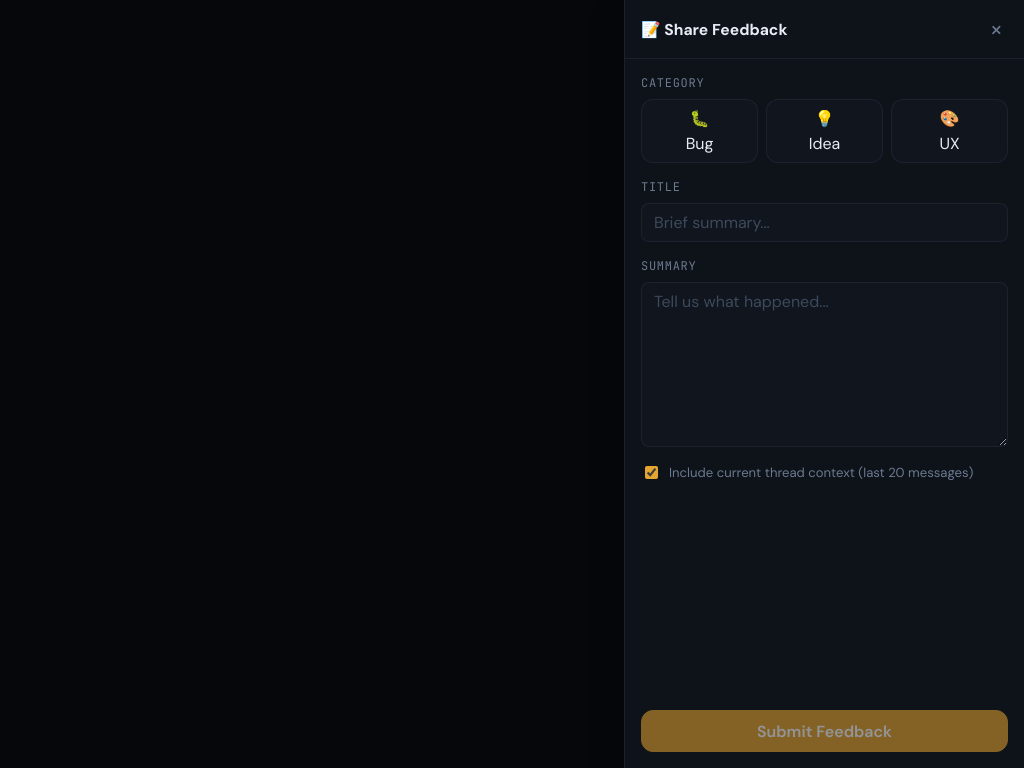
FeedbackSlideOver › shows error state when submission fails
Click the button "🐛 Bug" at point(700, 131), box top-left (641, 99), bottom-right (758, 163)
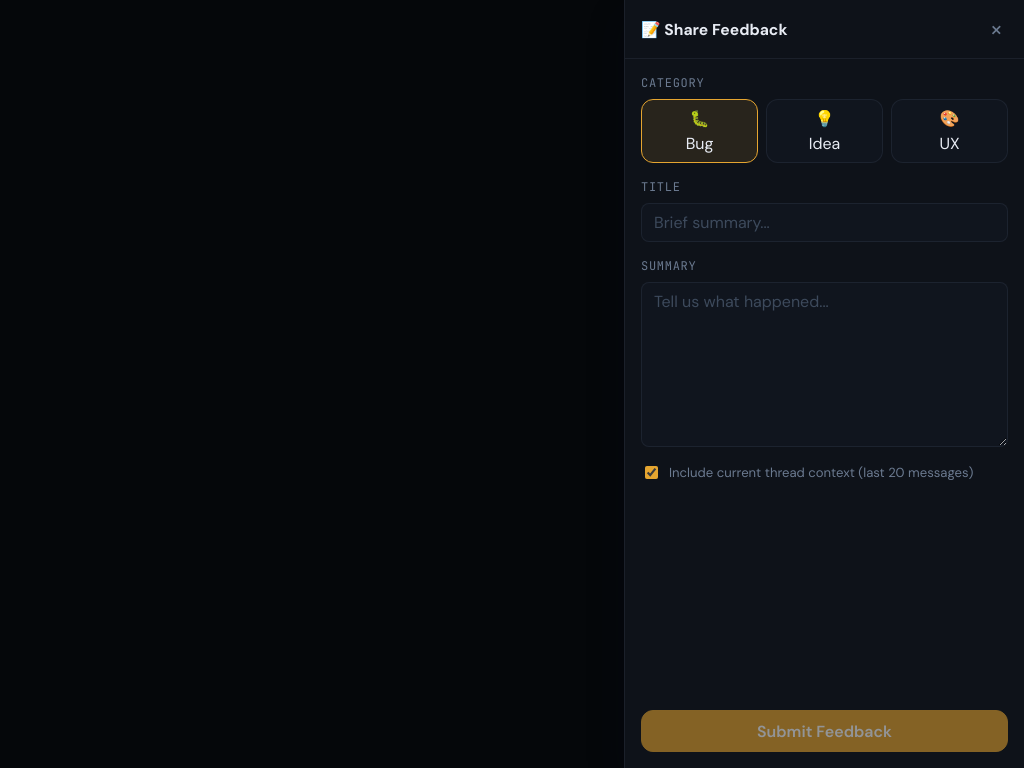
Type "Risk matrix shows duplicates" into the field with placeholder "Brief summary..." at point(824, 222), box top-left (641, 203), bottom-right (1008, 242)
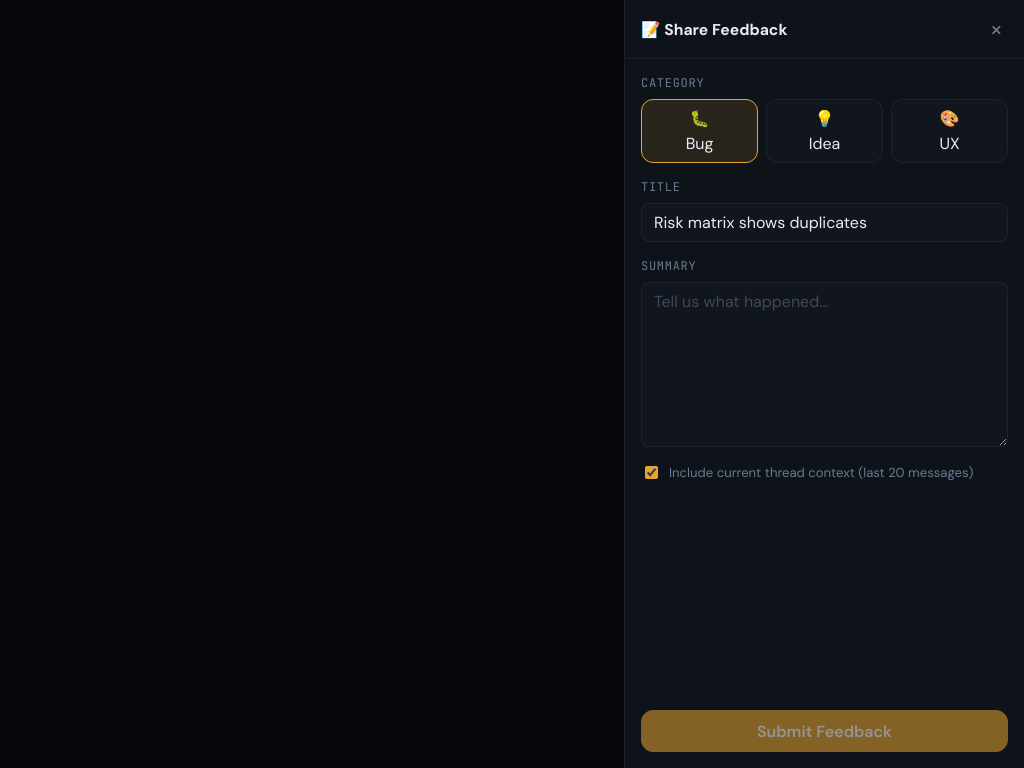
Type "Loading a second scenario duplicates rows in the output table." into the text box with placeholder "Tell us what happened..." at point(824, 364), box top-left (641, 282), bottom-right (1008, 447)
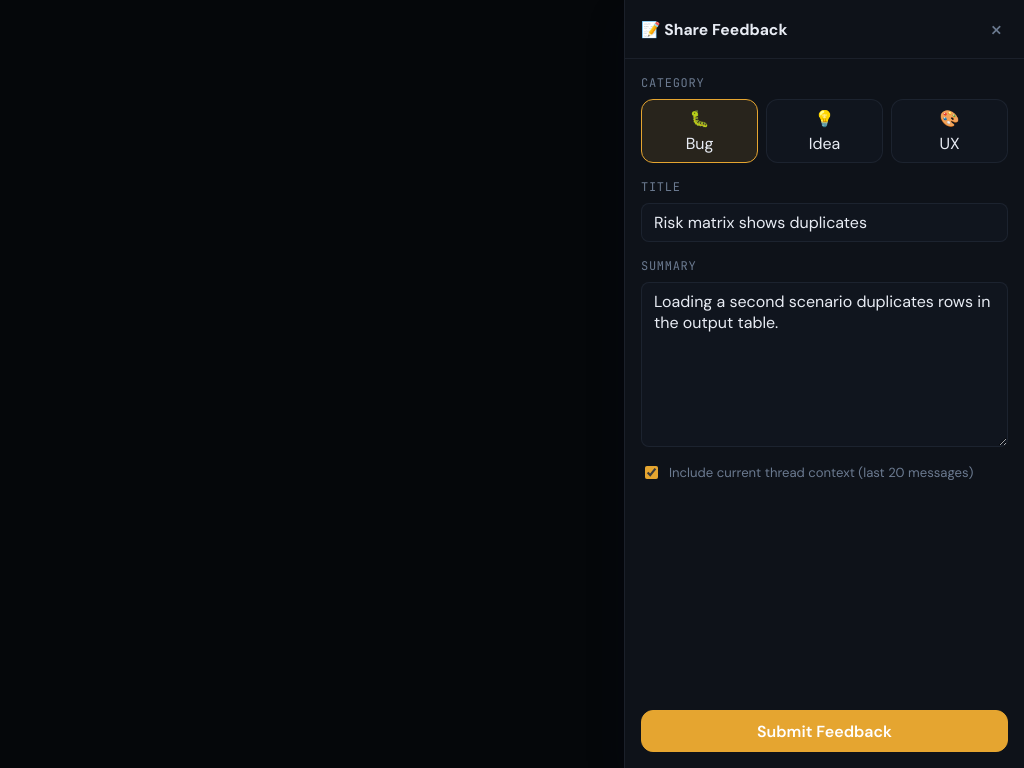
Click the button "Submit Feedback" at point(824, 731), box top-left (641, 710), bottom-right (1008, 752)
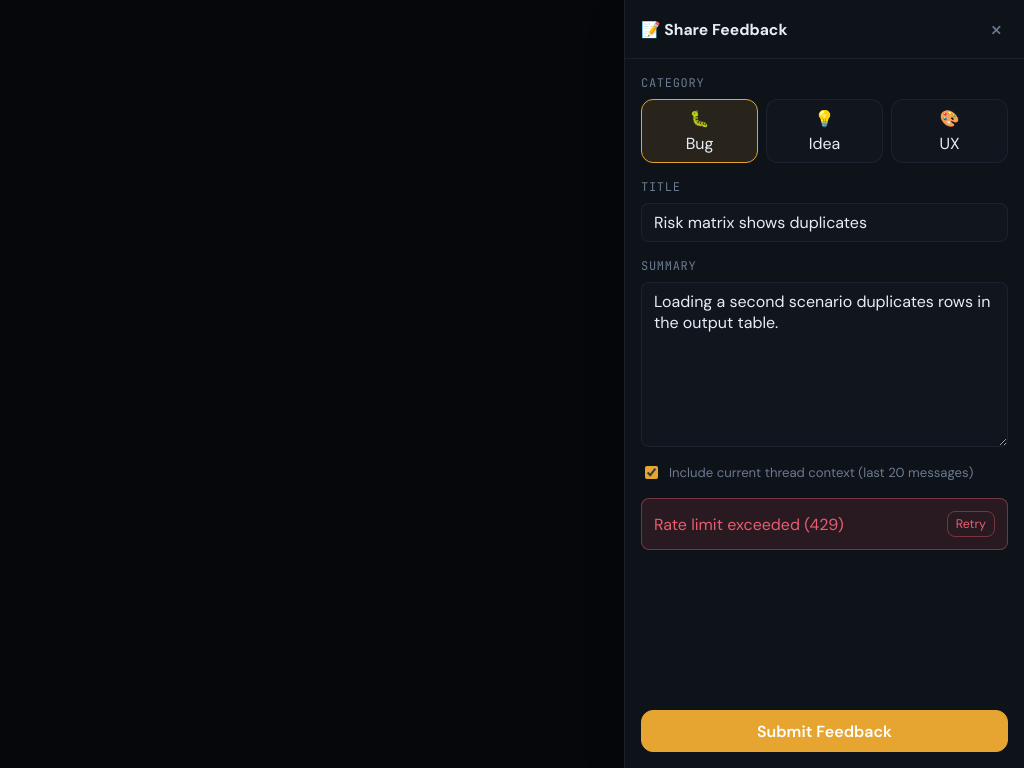
Expected: the message shows "Rate limit exceeded (429)", top-left (654, 514), bottom-right (844, 534)
Expected: the button "Retry" is shown, top-left (947, 511), bottom-right (995, 537)
